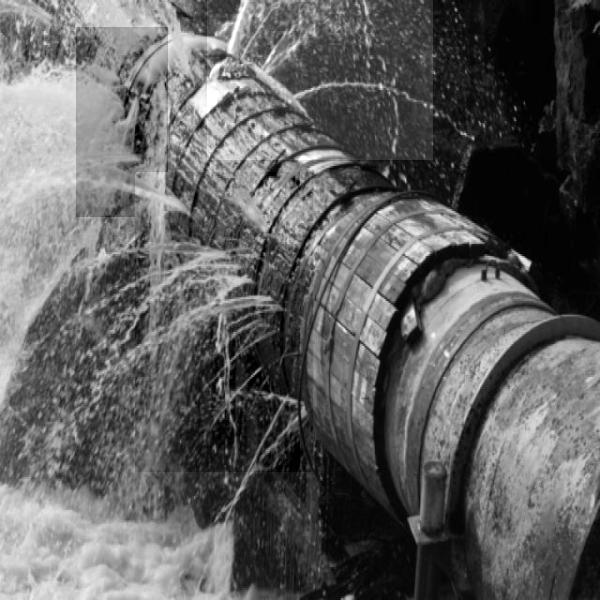leak: (135, 172, 313, 472), (207, 0, 433, 160), (76, 27, 168, 217)
